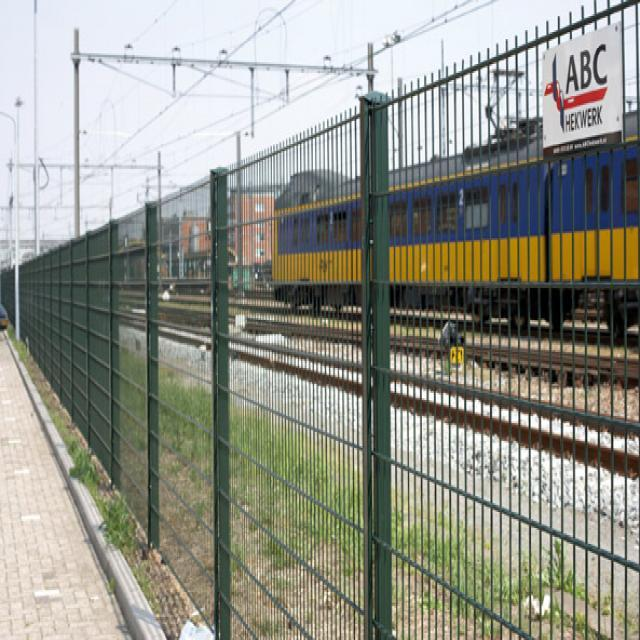fence line: (361, 58, 640, 640), (170, 165, 401, 640), (8, 253, 247, 615)
